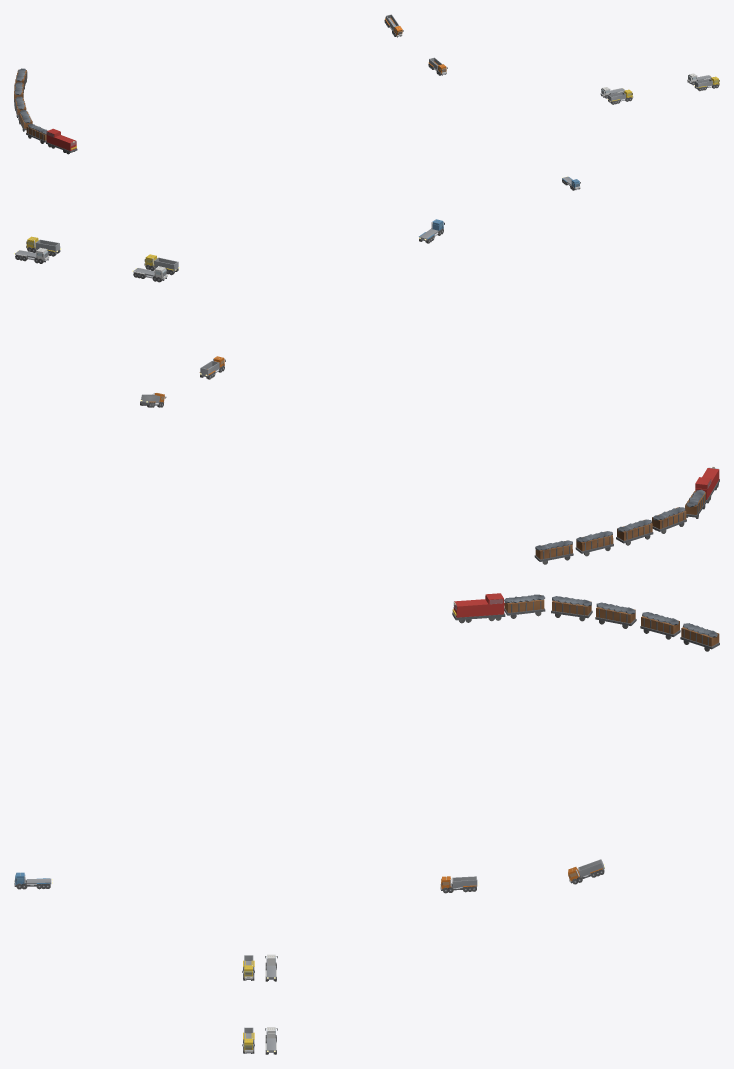
Rendered from Vehicles_P2.fbx.
The picture shows the model from 3 angles, top to bottom: view 1: azimuth 30°, elevation 25°; view 2: azimuth 150°, elevation 25°; view 3: azimuth 270°, elevation 25°; orthographic projection. The views are drawn at different scales.
Parts seen in each view (by area): view 1: train; view 2: wagon.004, wagon.003, wagon.002, wagon.001; view 3: train, wagon, wagon.001, wagon.002, wagon.003, wagon.004.
Boxes of the visible parts, x1,y1,x2,y2 form: train: (46, 128, 77, 154); wagon.004: (534, 540, 573, 564); wagon.003: (575, 531, 613, 556); wagon.002: (616, 519, 653, 545); wagon.001: (652, 507, 686, 533); train: (452, 593, 505, 623); wagon: (504, 594, 545, 618); wagon.001: (551, 596, 592, 621); wagon.002: (595, 602, 636, 628); wagon.003: (640, 612, 680, 639); wagon.004: (680, 623, 719, 651).
Bounding box in the file's own units: 26339 × 1456 × 18759.
